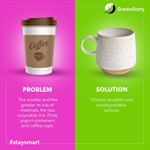cups: (79, 26, 140, 76), (20, 14, 60, 79)
